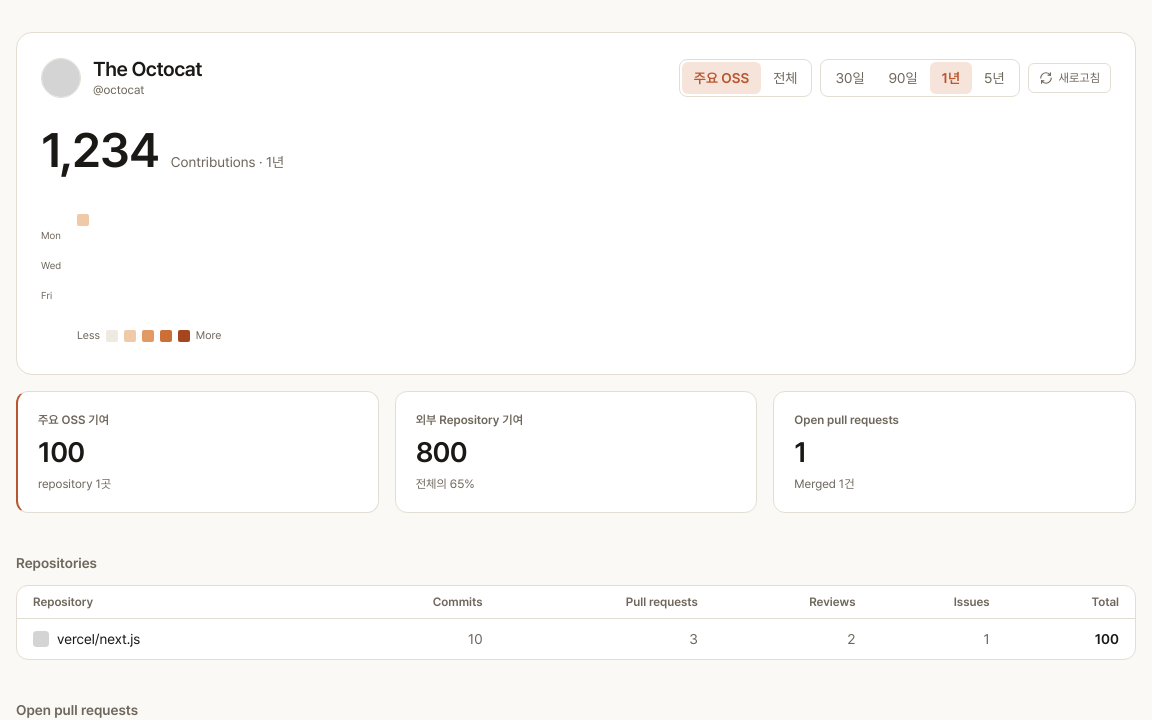
Test case: 조회 조건 바꾸기 › 이미 받아 둔 기간으로 옮기면 아무것도 다시 묻지 않는다
The image size is (1152, 720).
Click the link "90일". click: (903,78)
box: x1=888 y1=70 x2=918 y2=86
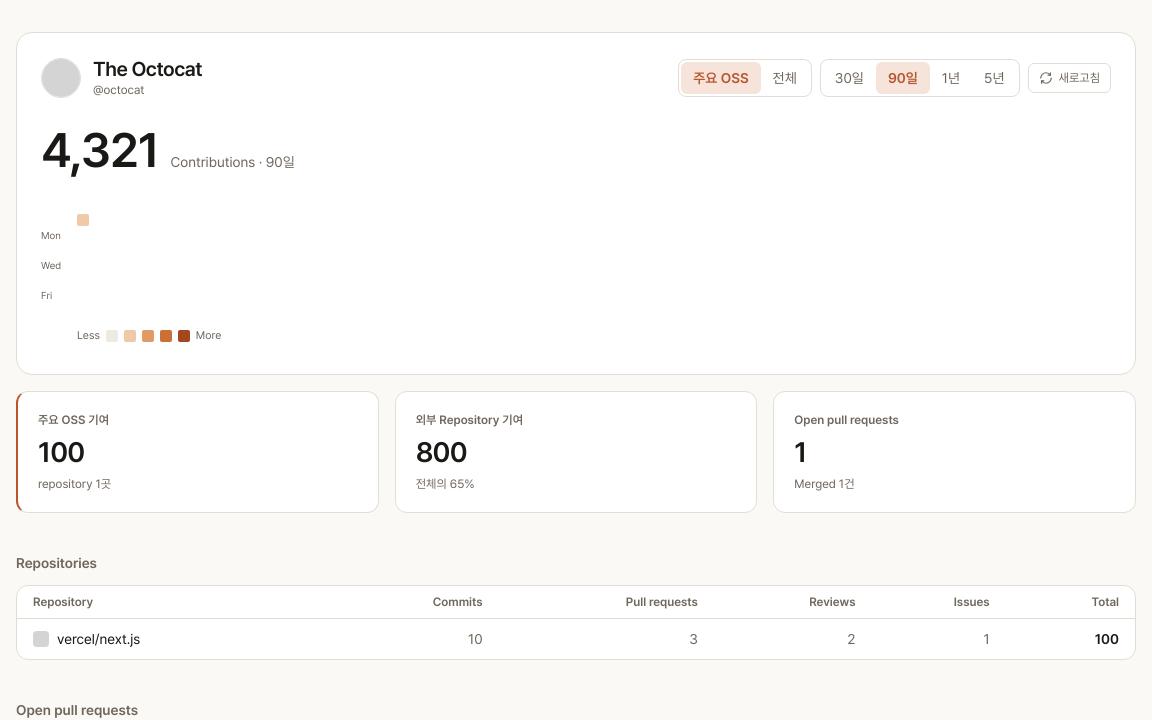
Result: the text "4,321" is shown at x1=41 y1=126 x2=158 y2=174
